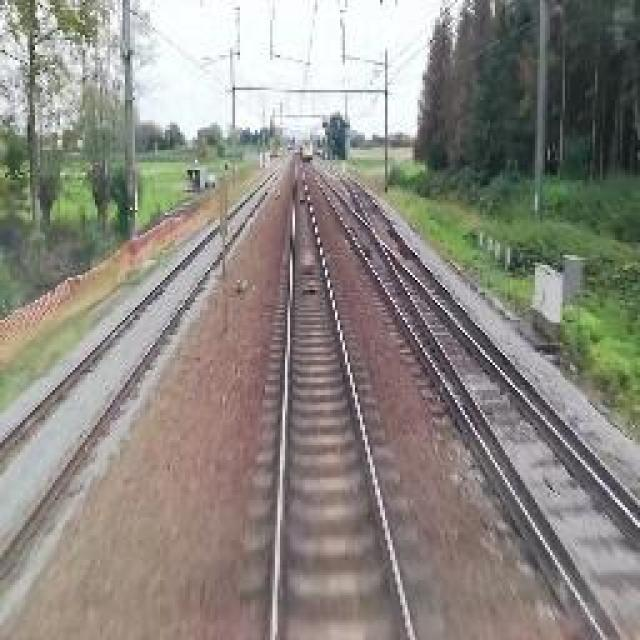rail: (241, 151, 446, 640)
